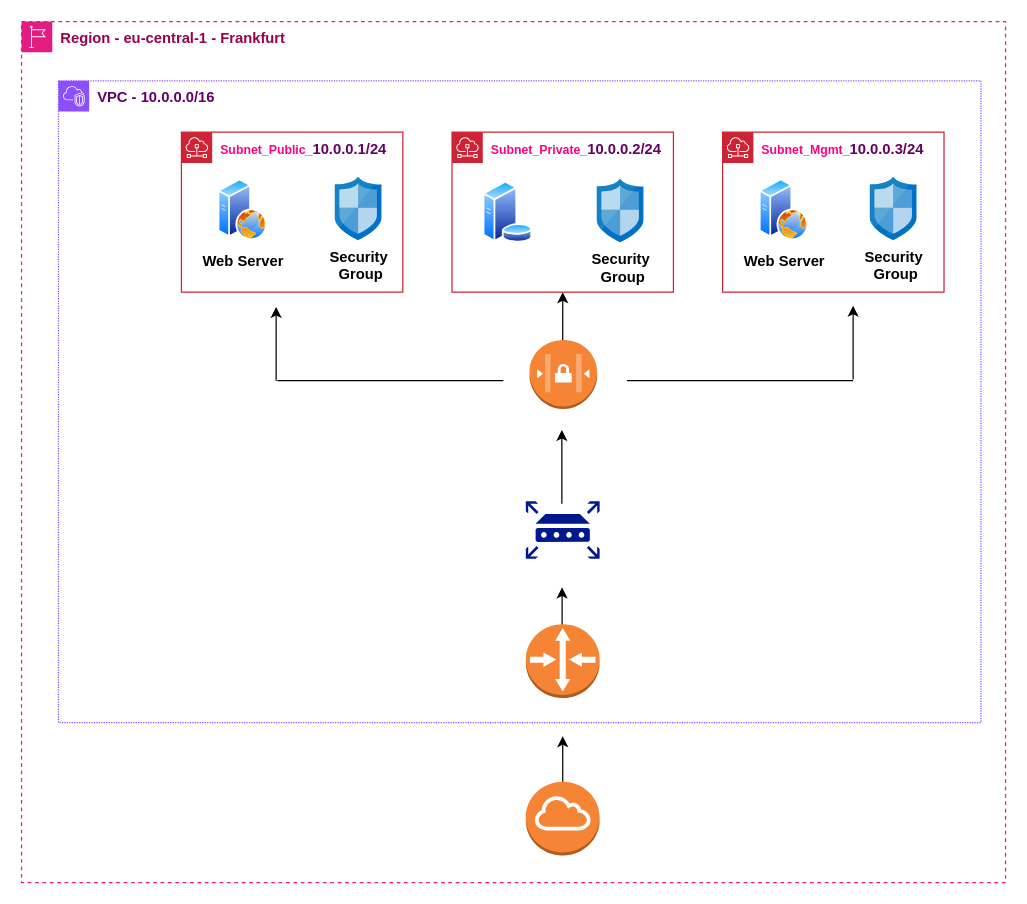
The diagram is 1027 pixels wide and 904 high, and some of its shapes have lost their labels. Here are the shapes that lost their labels. From the top down, the centre of each, then its label:
At point (507, 211): "DataBase".
At point (562, 374): "Network ACL".
At point (562, 529): "Router Table".
At point (562, 660): "Router".
At point (562, 817): "Internet Gateway".
